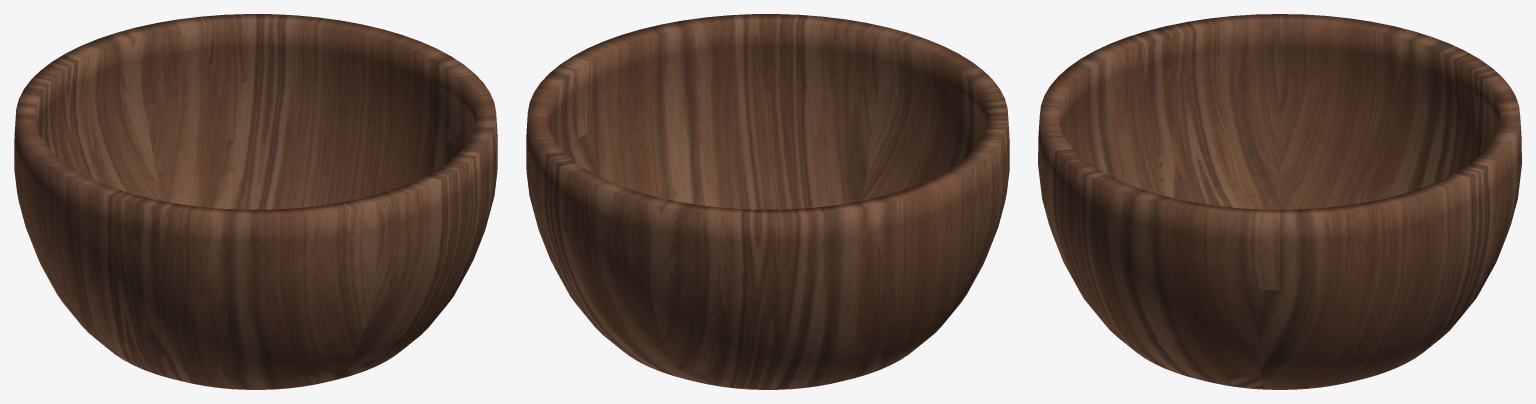
File: bowl.fbx
The picture shows the model from 3 angles, left to right: view 1: azimuth 30°, elevation 25°; view 2: azimuth 150°, elevation 25°; view 3: azimuth 270°, elevation 25°; orthographic projection.
Parts seen in each view (by area): view 1: bowl; view 2: bowl; view 3: bowl.
Part boxes in pixels (box(x1,y1,x2,y2)): bowl: box(14, 14, 497, 389); bowl: box(526, 14, 1009, 389); bowl: box(1038, 14, 1521, 389).
Bounding box in the file's own units: 350 × 172 × 350.
1 material, 1 textured.
